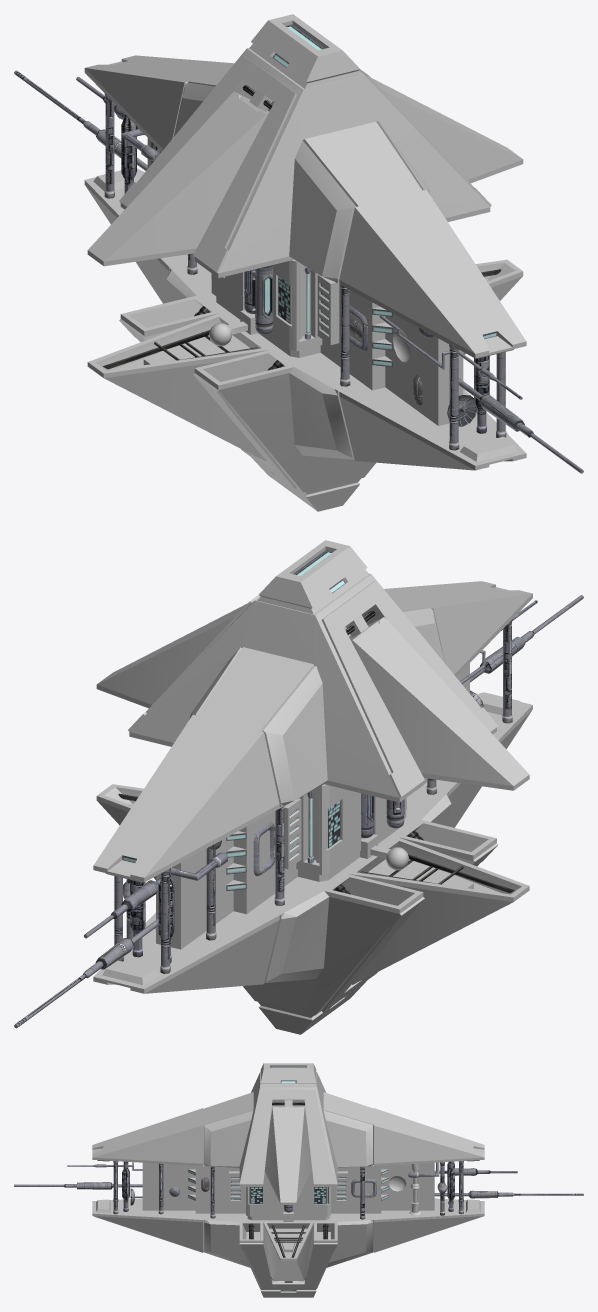
Rendered from spacestation_rsf_l0.fbx.
The picture shows the model from 3 angles, top to bottom: view 1: azimuth 30°, elevation 25°; view 2: azimuth 150°, elevation 25°; view 3: azimuth 270°, elevation 25°; orthographic projection. The views are drawn at different scales.
Visible parts, largest first — view 1: mesh_node; view 2: mesh_node; view 3: mesh_node.
Boxes of the visible parts, x1,y1,x2,y2 form: mesh_node: (14,14,583,511); mesh_node: (14,540,583,1034); mesh_node: (14,1063,583,1297).
Bounding box in the file's own units: 133 × 138 × 312.
